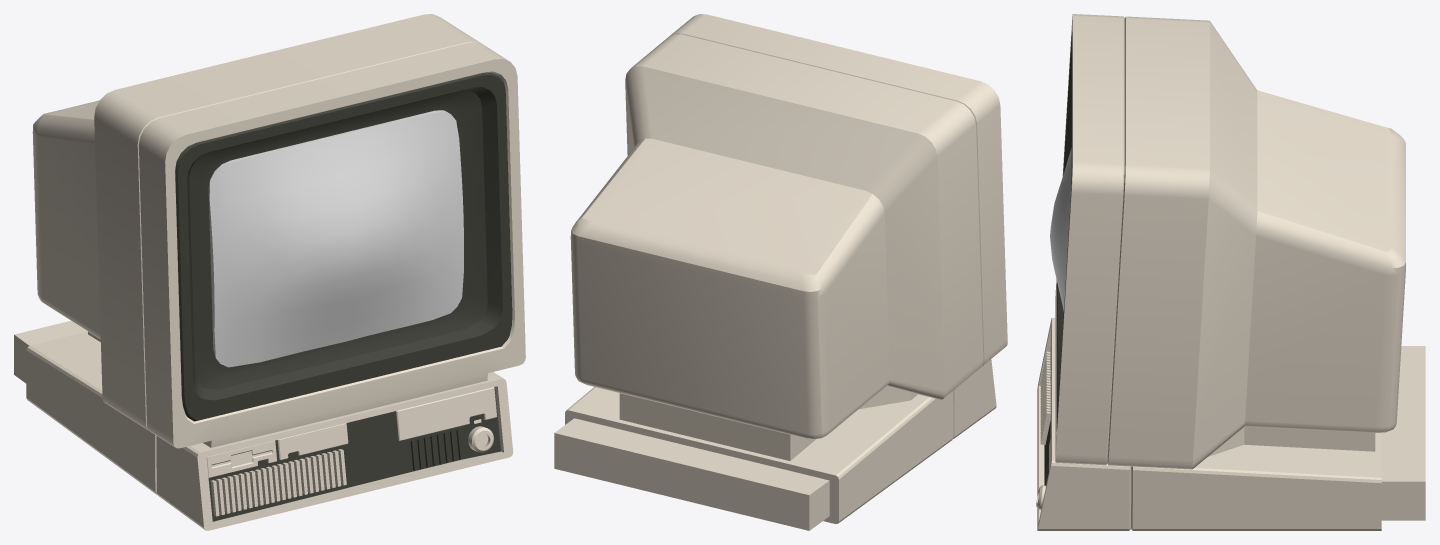
The model's file is Computer.fbx.
3 views of the same model, side by side, from view 1: azimuth 30°, elevation 25°; view 2: azimuth 150°, elevation 25°; view 3: azimuth 270°, elevation 25° (orthographic). The views are drawn at different scales.
Visible parts, largest first — view 1: Cube.138, Cube.085, Cube.131; view 2: Cube.138, Cube.131; view 3: Cube.138, Cube.131, Cube.085.
Part boxes in pixels (bbox=[...]): Cube.138: bbox=[32, 14, 525, 448]; Cube.085: bbox=[208, 110, 463, 367]; Cube.131: bbox=[14, 320, 513, 530]; Cube.138: bbox=[570, 14, 1007, 460]; Cube.131: bbox=[554, 359, 996, 530]; Cube.138: bbox=[1055, 14, 1405, 469]; Cube.131: bbox=[1037, 318, 1425, 530]; Cube.085: bbox=[1050, 148, 1071, 311].
Size of the model in its own units: 1951 by 1969 by 2048.
